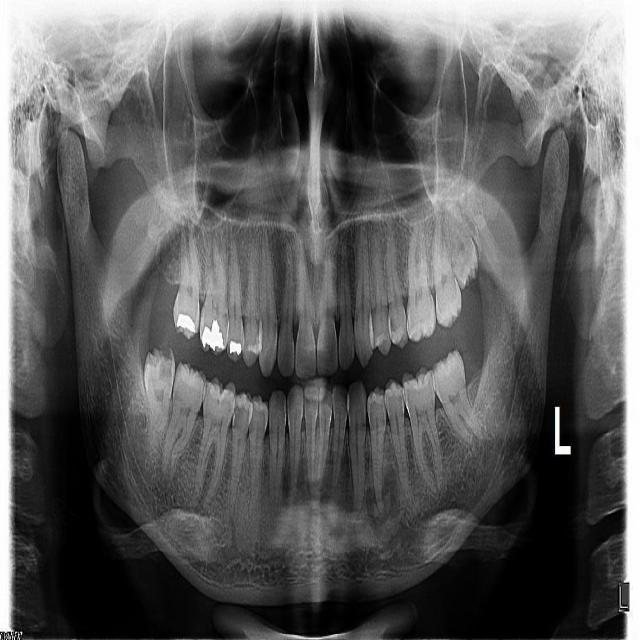Caries: (160, 354, 172, 383), (233, 402, 241, 424), (389, 316, 395, 333), (215, 397, 223, 409)
Filling: (201, 320, 224, 351), (176, 313, 195, 334), (229, 341, 242, 356)
impacted tooth: (438, 198, 475, 287)
